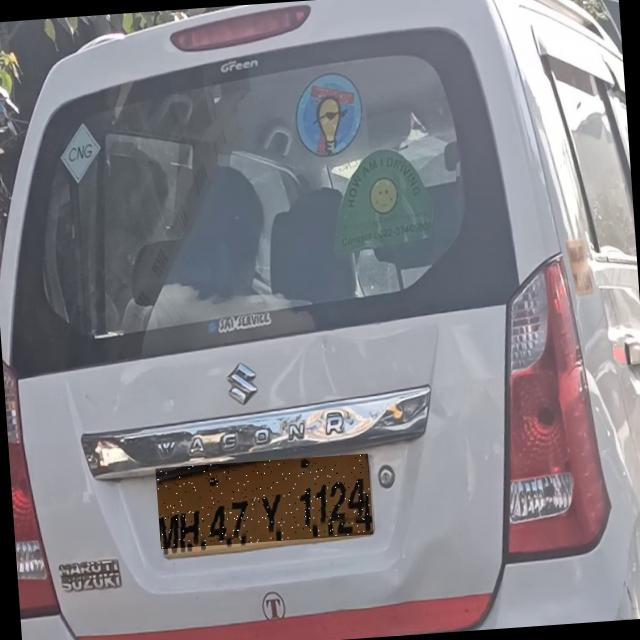Plate: (156, 454, 374, 550)
